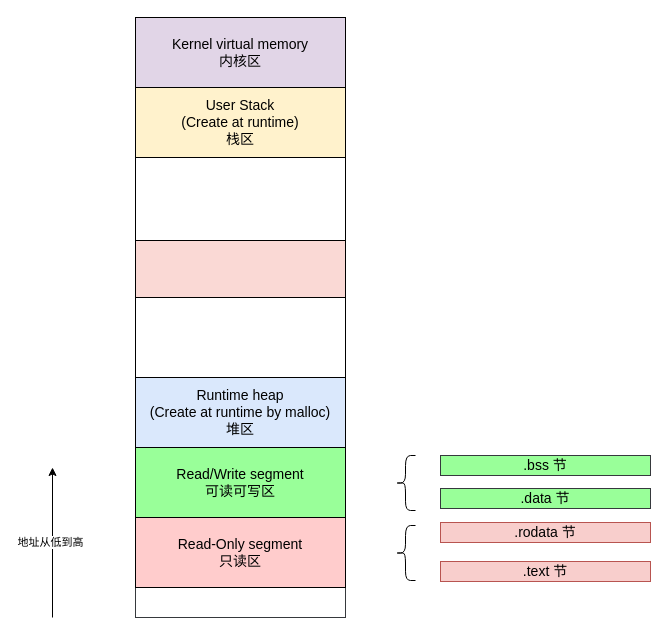
This 668x643 diagram has some shape labels left out. Here are the shapes that lost their labels. From the top down, the box of each, then its label:
(134, 240, 346, 298): Memory mapped region for shared libraries 共享动态库
(134, 586, 346, 618): Unused
